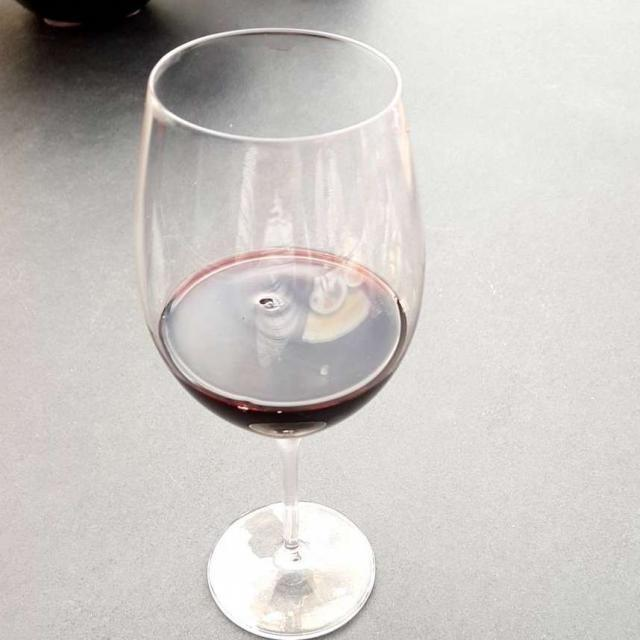wine: (162, 261, 399, 416)
